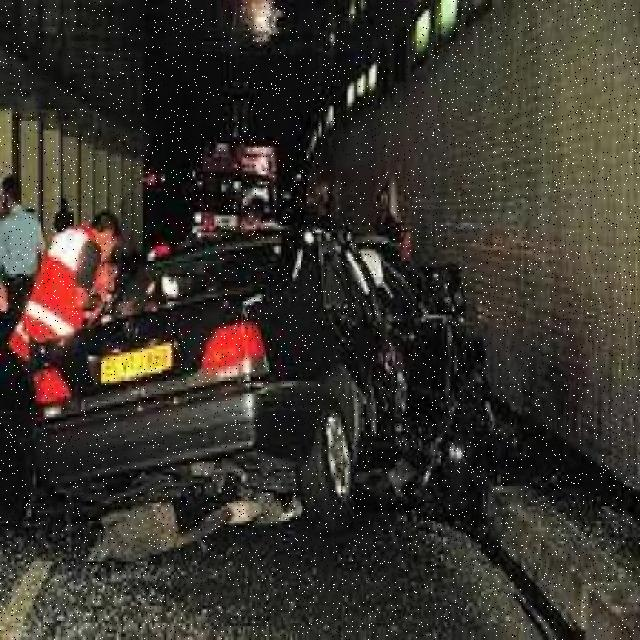damage: (314, 231, 486, 471)
